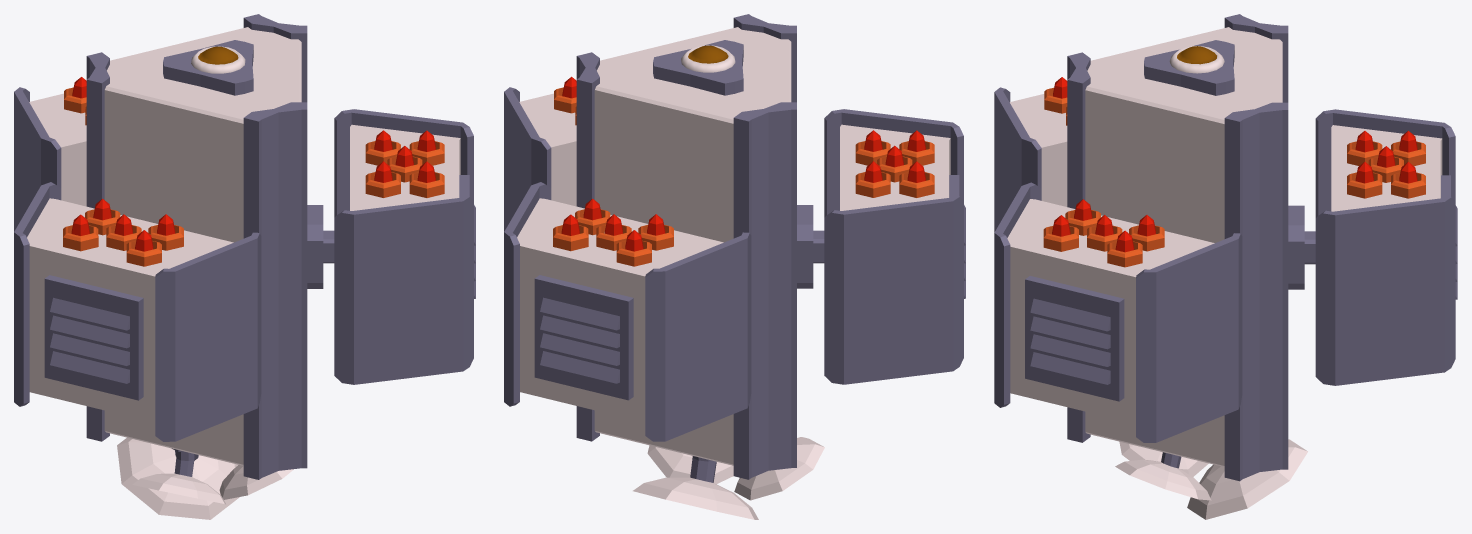
The model's file is SatelliteRocket.fbx.
3 views of the same model, side by side, from view 1: azimuth 30°, elevation 25°; view 2: azimuth 150°, elevation 25°; view 3: azimuth 270°, elevation 25° (orthographic).
Parts seen in each view (by area): view 1: Plane; view 2: Plane; view 3: Plane.
Boxes of the visible parts, x1,y1,x2,y2 form: Plane: (14, 14, 475, 519); Plane: (504, 14, 965, 519); Plane: (994, 14, 1457, 519).
Size of the model in its own units: 5.71 by 5.63 by 5.07.
